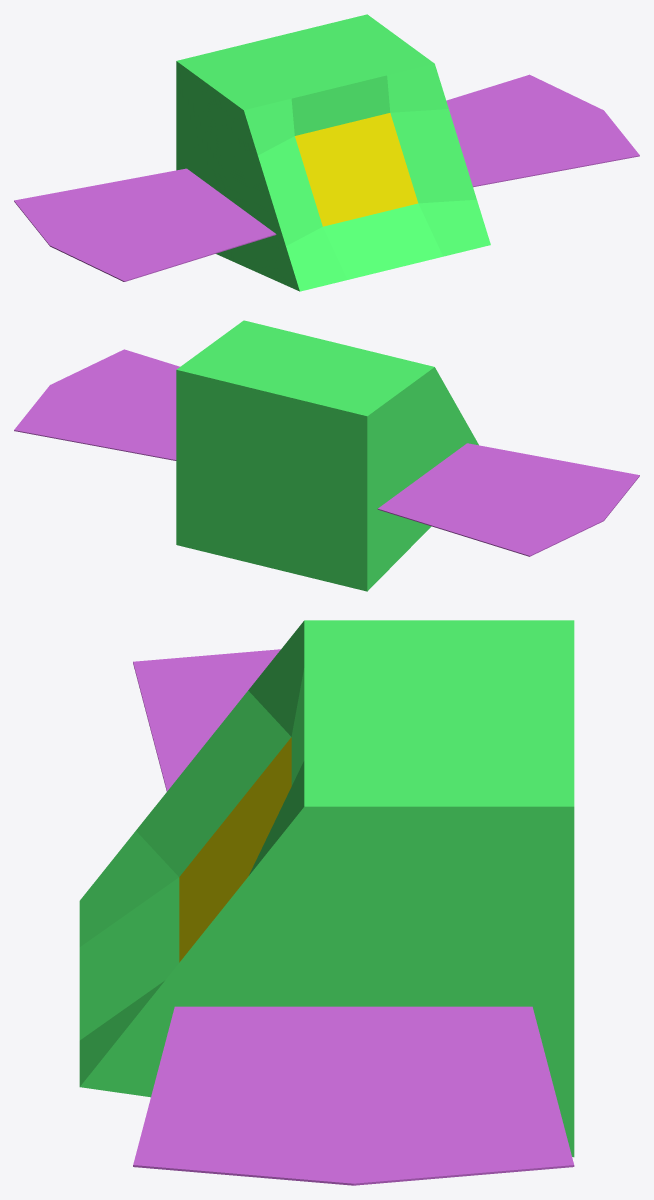
File: enemy.glb
3 views of the same model, one above another, from view 1: azimuth 30°, elevation 25°; view 2: azimuth 150°, elevation 25°; view 3: azimuth 270°, elevation 25° (orthographic). The views are drawn at different scales.
Visible parts, largest first — view 1: Cube, right-wing, left-wing; view 2: Cube, right-wing, left-wing; view 3: Cube, left-wing, right-wing.
Part boxes in pixels (x1,y1,x2,y2): Cube: (176,14,490,291); right-wing: (14,168,276,281); left-wing: (446,74,639,187); Cube: (176,320,478,591); right-wing: (377,443,639,556); left-wing: (14,349,179,460); Cube: (79,620,574,1157); left-wing: (133,1006,574,1185); right-wing: (133,649,280,791).
Size of the model in its own units: 5.8 by 1.75 by 2.24.
